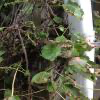grape leaf black rot: (59, 76, 82, 98), (62, 1, 86, 22), (24, 71, 55, 86), (40, 45, 61, 62), (68, 56, 90, 72), (67, 42, 87, 58), (66, 73, 77, 87), (37, 31, 49, 42), (53, 16, 63, 25)
